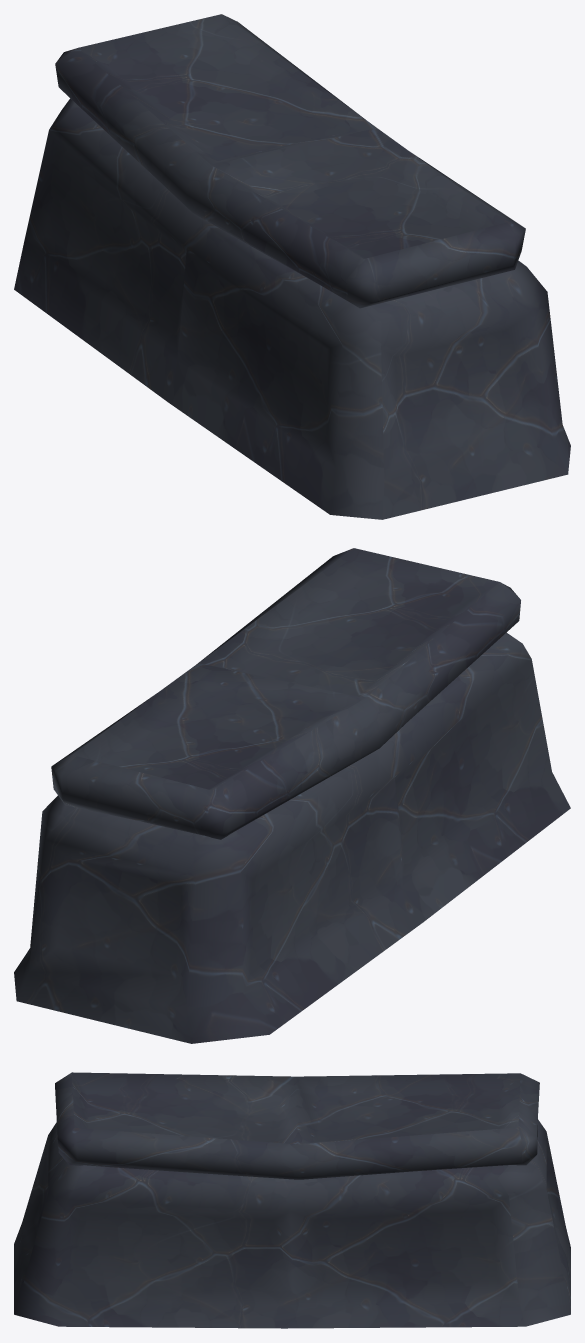
File: Stone coffin.fbx
3 views of the same model, one above another, from view 1: azimuth 30°, elevation 25°; view 2: azimuth 150°, elevation 25°; view 3: azimuth 270°, elevation 25° (orthographic). The views are drawn at different scales.
Parts seen in each view (by area): view 1: Stone_Coffin; view 2: Stone_Coffin; view 3: Stone_Coffin.
Boxes of the visible parts, x1,y1,x2,y2 form: Stone_Coffin: [14, 14, 570, 519]; Stone_Coffin: [14, 548, 570, 1043]; Stone_Coffin: [14, 1072, 570, 1328].
Bounding box in the file's own units: 1.21 × 1.01 × 2.85.
